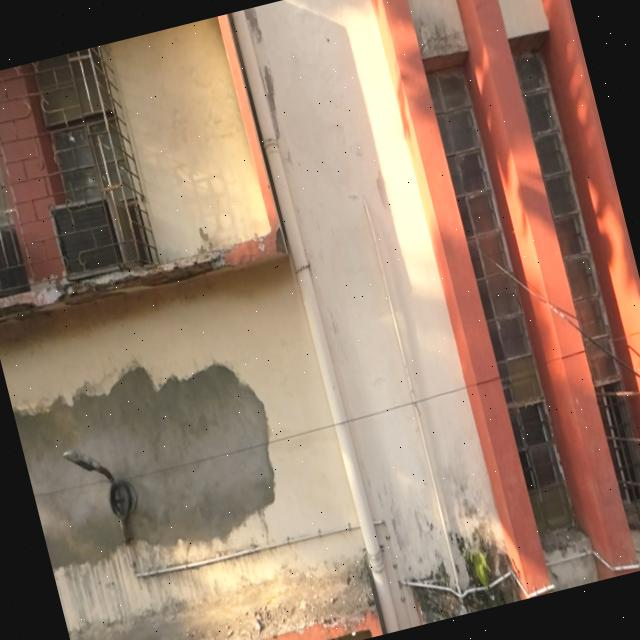Incomplete Plaster Work: (13, 364, 275, 568)
Spalling: (0, 227, 286, 321)
pollution -moisture induced blackening: (409, 541, 519, 623)
